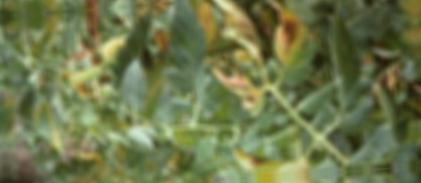Tomato Early blight leaf: (191, 0, 266, 73), (267, 0, 313, 92), (205, 67, 267, 118), (227, 144, 308, 182), (371, 80, 412, 155), (393, 0, 418, 52)
Tomato leaf: (325, 5, 371, 110), (165, 0, 211, 98), (120, 59, 148, 117)
